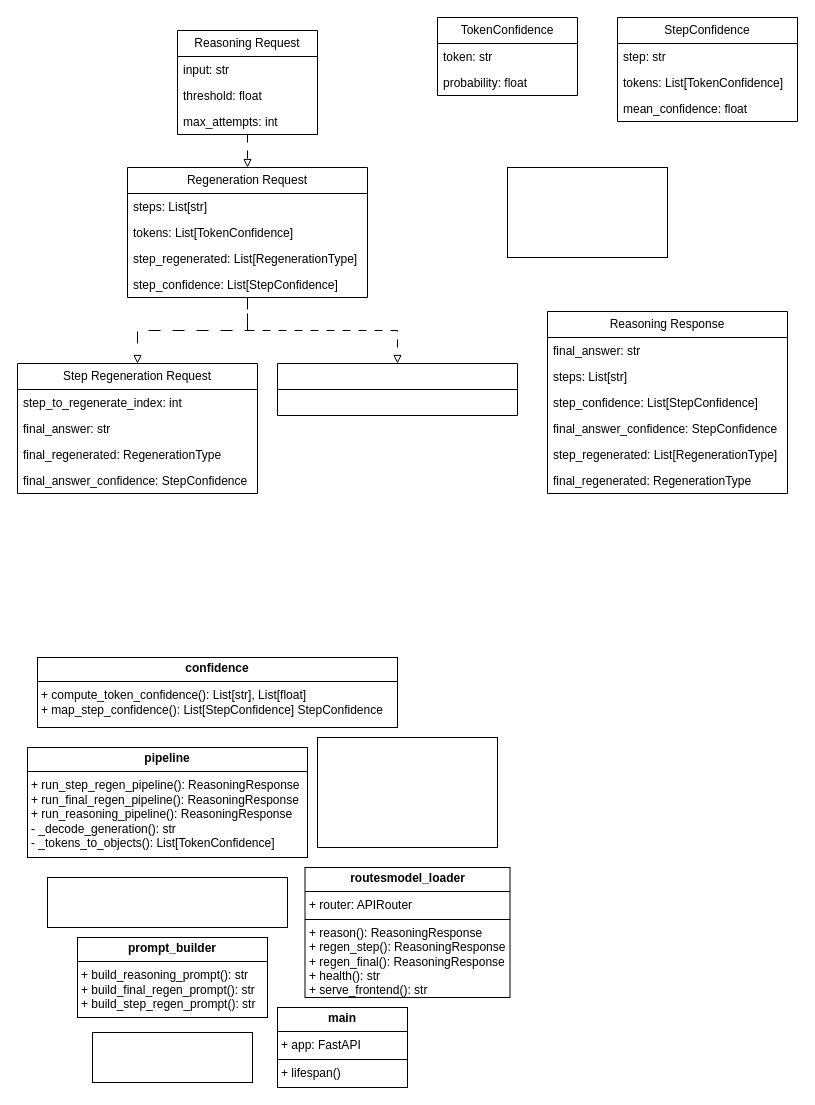
Image size: 815x1105. Some labels were removed from this diagram. The centre of each missing label's shape, as x and y in pixels:
<<enumeration>> RegenerationType NOT_REGENERATED MANUAL AUTO: (x=587, y=212)
cot + extract_cot(): List[str], str: (x=172, y=1057)
Final Regeneration Request: (x=397, y=389)
generation + generate_with_scores(): output, tokenizer: (x=167, y=902)
model_loader - _model - _tokenizer - _model_Lock + get_model(): model, tokenizer: (x=407, y=792)
